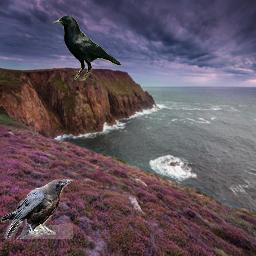Crow: (52, 15, 122, 81), (1, 179, 73, 239)
